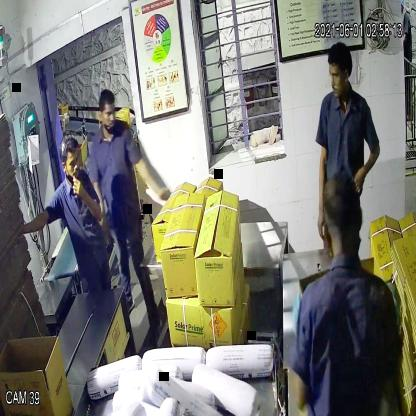no_goggles: (60, 153, 86, 174)
